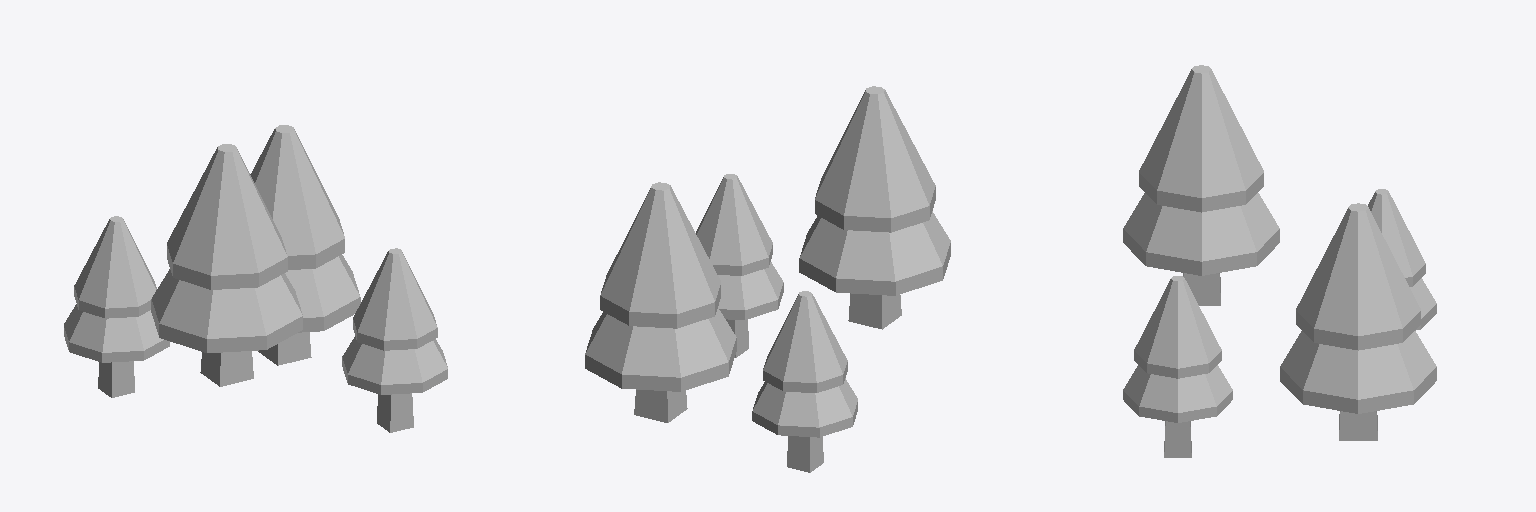
Rendered from TreeQuadCornerUpWards.obj.
3 views of the same model, side by side, from view 1: azimuth 30°, elevation 25°; view 2: azimuth 150°, elevation 25°; view 3: azimuth 270°, elevation 25° (orthographic).
Visible parts, largest first — view 1: tree.007_tree.004; view 2: tree.007_tree.004; view 3: tree.007_tree.004.
Boxes of the visible parts, <box> form: tree.007_tree.004: <box>64,125,447,432</box>; tree.007_tree.004: <box>585,86,950,472</box>; tree.007_tree.004: <box>1123,65,1436,457</box>.
Size of the model in its own units: 1 by 1.08 by 1.